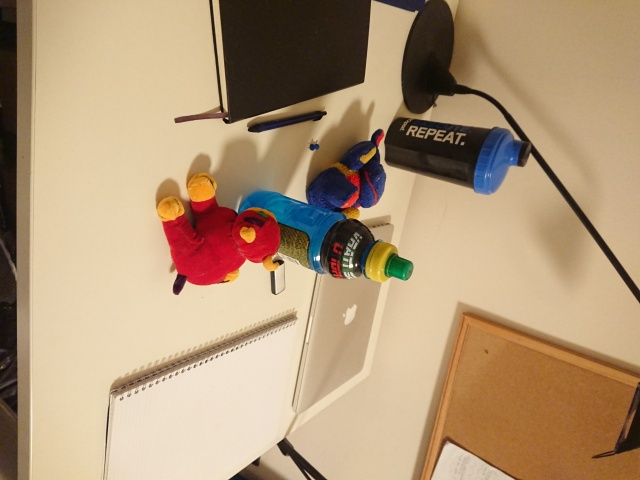Vindi Iso Sport Forest Strawberries 500mL: (234, 188, 415, 283)
